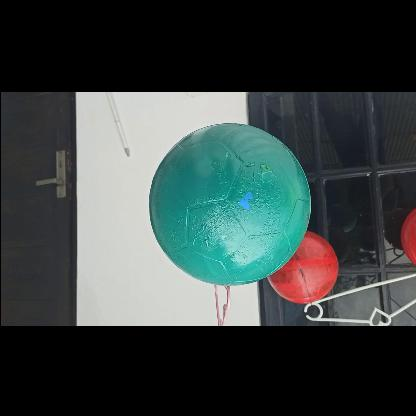green_ball: (148, 123, 308, 283)
